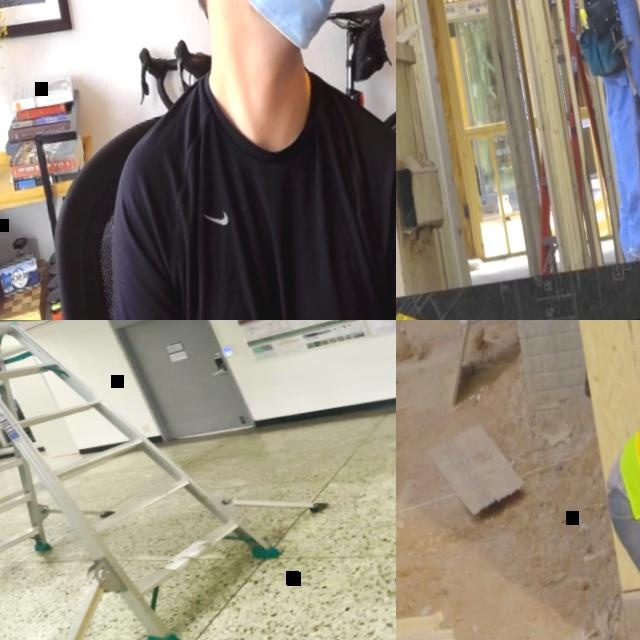Mask: (189, 0, 345, 58)
NO-Safety Vest: (134, 56, 396, 320)
Person: (27, 0, 396, 320), (529, 0, 640, 262)
Safety Vest: (612, 399, 640, 555)
